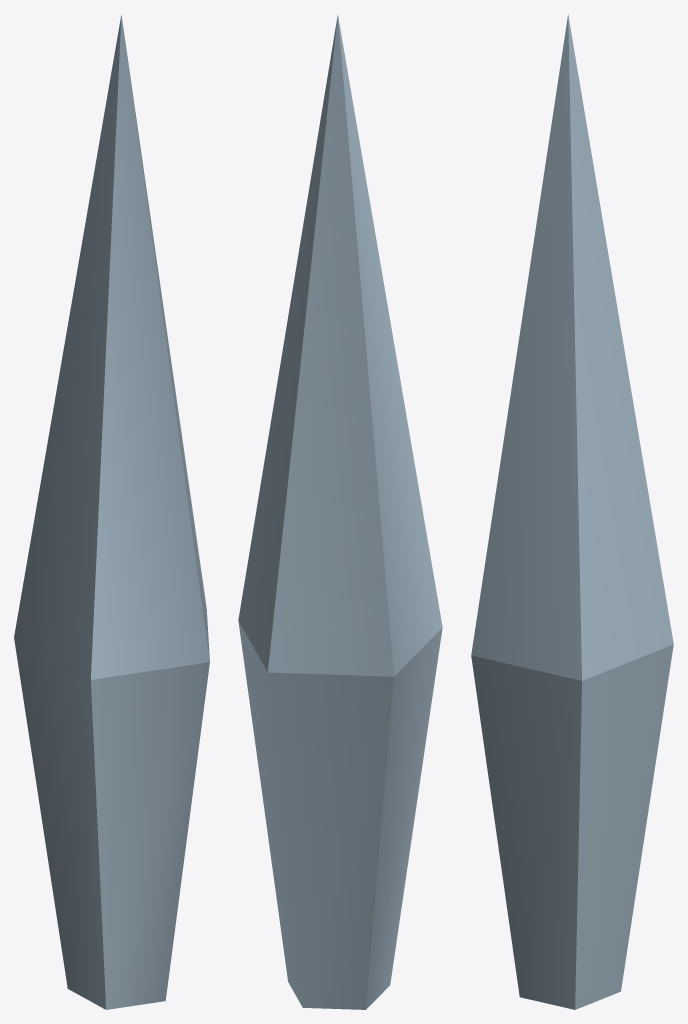
File: 2038_FreezingSpray_Enhanced_SprayFrost.fbx
3 renders of one model, left to right at view 1: azimuth 30°, elevation 25°; view 2: azimuth 150°, elevation 25°; view 3: azimuth 270°, elevation 25°, orthographic.
Parts seen in each view (by area): view 1: PART_ColdSprayFineFrost; view 2: PART_ColdSprayFineFrost; view 3: PART_ColdSprayFineFrost.
Part boxes in pixels (x1=…): PART_ColdSprayFineFrost: x1=14, y1=14, x2=209, y2=1009; PART_ColdSprayFineFrost: x1=238, y1=14, x2=442, y2=1009; PART_ColdSprayFineFrost: x1=471, y1=14, x2=673, y2=1009.
Bounding box in the file's own units: 3.37 × 18 × 3.39.
